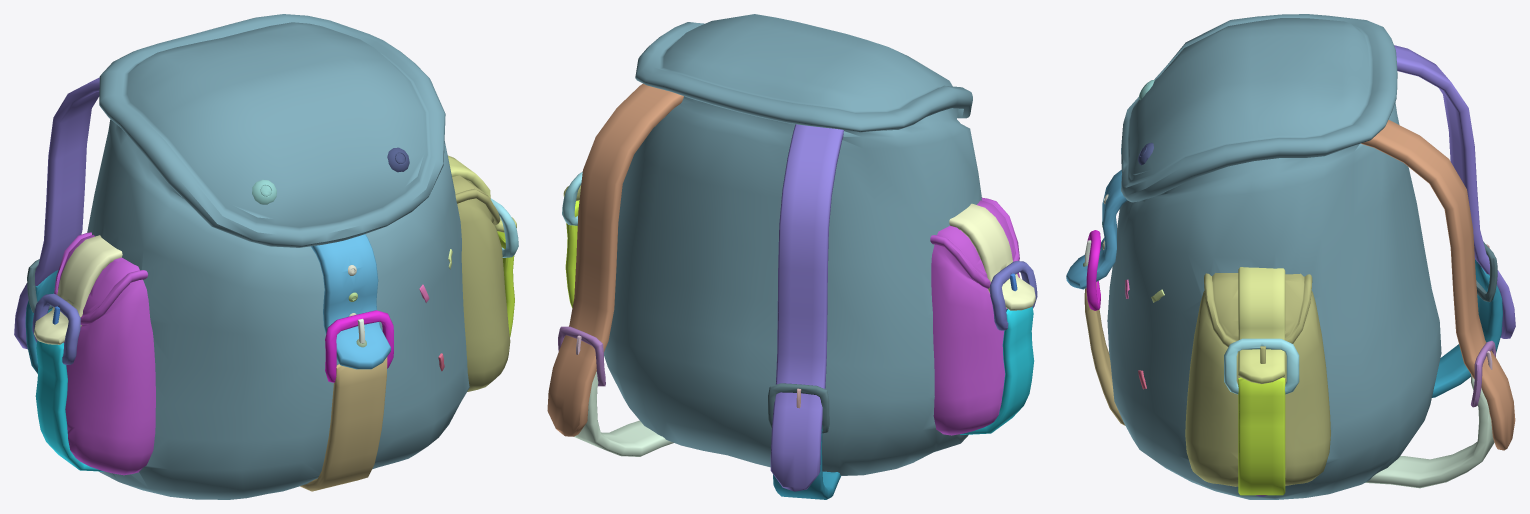
3 views of the same model, side by side, from view 1: azimuth 30°, elevation 25°; view 2: azimuth 150°, elevation 25°; view 3: azimuth 270°, elevation 25° (orthographic). The views are drawn at different scales.
Visible parts, largest first — view 1: Object_6, Object_5.006, Object_5, split_parent_5, split_parent_9, Object_3.014, Object_4, Object_4.031, Object_4.030, Object_4.036, split_parent_4, Object_4.037 (+2 smaller); view 2: Object_6, split_parent_5, split_parent_6, Object_5.006, Object_4, Object_4.031, split_parent_0, Object_4.036, split_parent_4, Object_4.029, Object_4.028, Object_4.037 (+1 smaller); view 3: Object_6, Object_5, split_parent_6, Object_4.037, split_parent_5, Object_4.004, split_parent_0, split_parent_4, Object_3.014, Object_4.042, split_parent_9, Object_4.030 (+2 smaller).
Boxes of the visible parts, <box> form: Object_6: <box>87,14,469,499</box>; Object_5.006: <box>54,232,155,475</box>; Object_5: <box>452,175,510,391</box>; split_parent_5: <box>14,77,99,349</box>; split_parent_9: <box>300,357,387,491</box>; Object_3.014: <box>311,234,390,369</box>; Object_4: <box>34,235,122,344</box>; Object_4.031: <box>35,340,104,471</box>; Object_4.030: <box>325,310,393,382</box>; Object_4.036: <box>32,293,80,365</box>; split_parent_4: <box>25,270,58,373</box>; Object_4.037: <box>497,231,514,336</box>; Object_6: <box>604,14,981,475</box>; split_parent_5: <box>770,124,843,491</box>; split_parent_6: <box>547,83,683,436</box>; Object_5.006: <box>930,197,1019,435</box>; Object_4: <box>949,203,1035,310</box>; Object_4.031: <box>960,306,1034,434</box>; split_parent_0: <box>574,371,673,456</box>; Object_4.036: <box>990,261,1037,330</box>; split_parent_4: <box>773,425,840,499</box>; Object_4.029: <box>768,383,829,433</box>; Object_4.028: <box>558,326,605,386</box>; Object_4.037: <box>565,200,579,307</box>; Object_6: <box>1107,14,1441,499</box>; Object_5: <box>1185,273,1330,486</box>; split_parent_6: <box>1361,120,1515,450</box>; Object_4.037: <box>1238,377,1285,495</box>; split_parent_5: <box>1394,45,1515,338</box>; Object_4.004: <box>1238,267,1285,383</box>; split_parent_0: <box>1365,375,1494,488</box>; split_parent_4: <box>1432,259,1502,397</box>; Object_3.014: <box>1066,170,1127,289</box>; Object_4.042: <box>1224,338,1299,394</box>; split_parent_9: <box>1084,282,1125,425</box>; Object_4.030: <box>1086,230,1100,310</box>.
Bounding box in the file's own units: 1 × 0.7769 × 0.8347.
